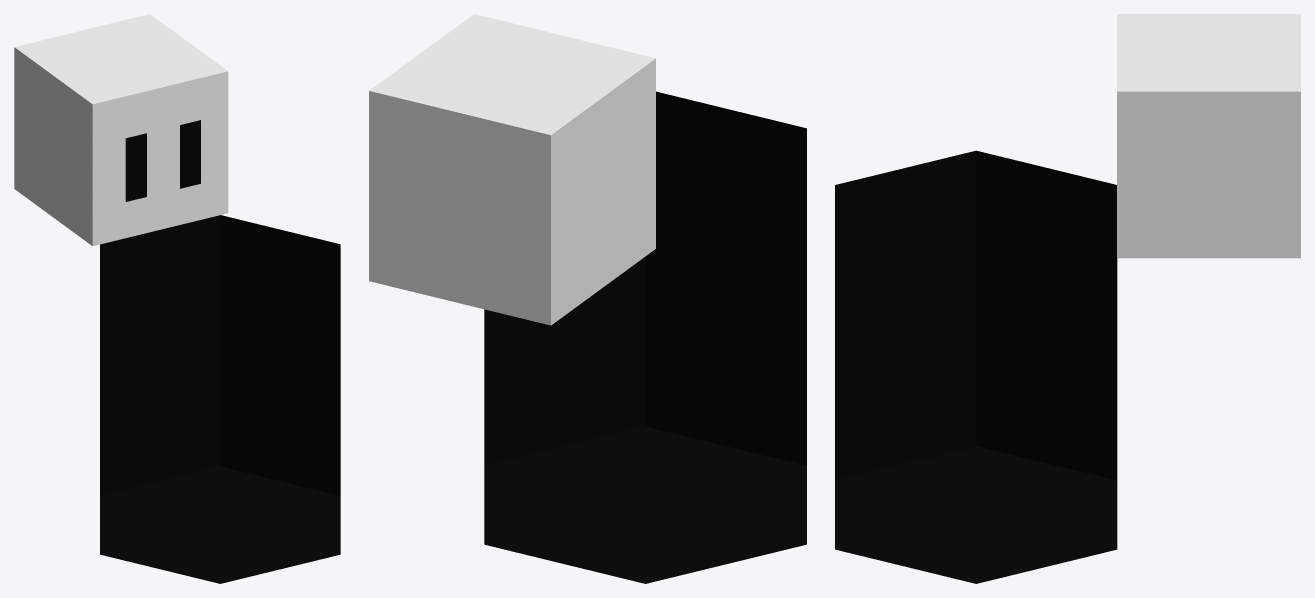
Rendered from ana.glb.
3 views of the same model, side by side, from view 1: azimuth 30°, elevation 25°; view 2: azimuth 150°, elevation 25°; view 3: azimuth 270°, elevation 25° (orthographic). The views are drawn at different scales.
Visible parts, largest first — view 1: pCylinder1, pCube1, pPlane1, pPlane2; view 2: pCylinder1, pCube1; view 3: pCylinder1, pCube1.
Boxes of the visible parts, x1,y1,x2,y2 form: pCylinder1: (100, 215, 340, 583); pCube1: (14, 14, 228, 246); pPlane1: (125, 133, 146, 201); pPlane2: (180, 120, 200, 188); pCylinder1: (484, 91, 806, 583); pCube1: (369, 14, 655, 325); pCylinder1: (835, 150, 1117, 583); pCube1: (1117, 14, 1300, 258).
Bounding box in the file's own units: 0.0887 × 0.1387 × 0.1267.
3 materials, 3 textured.
